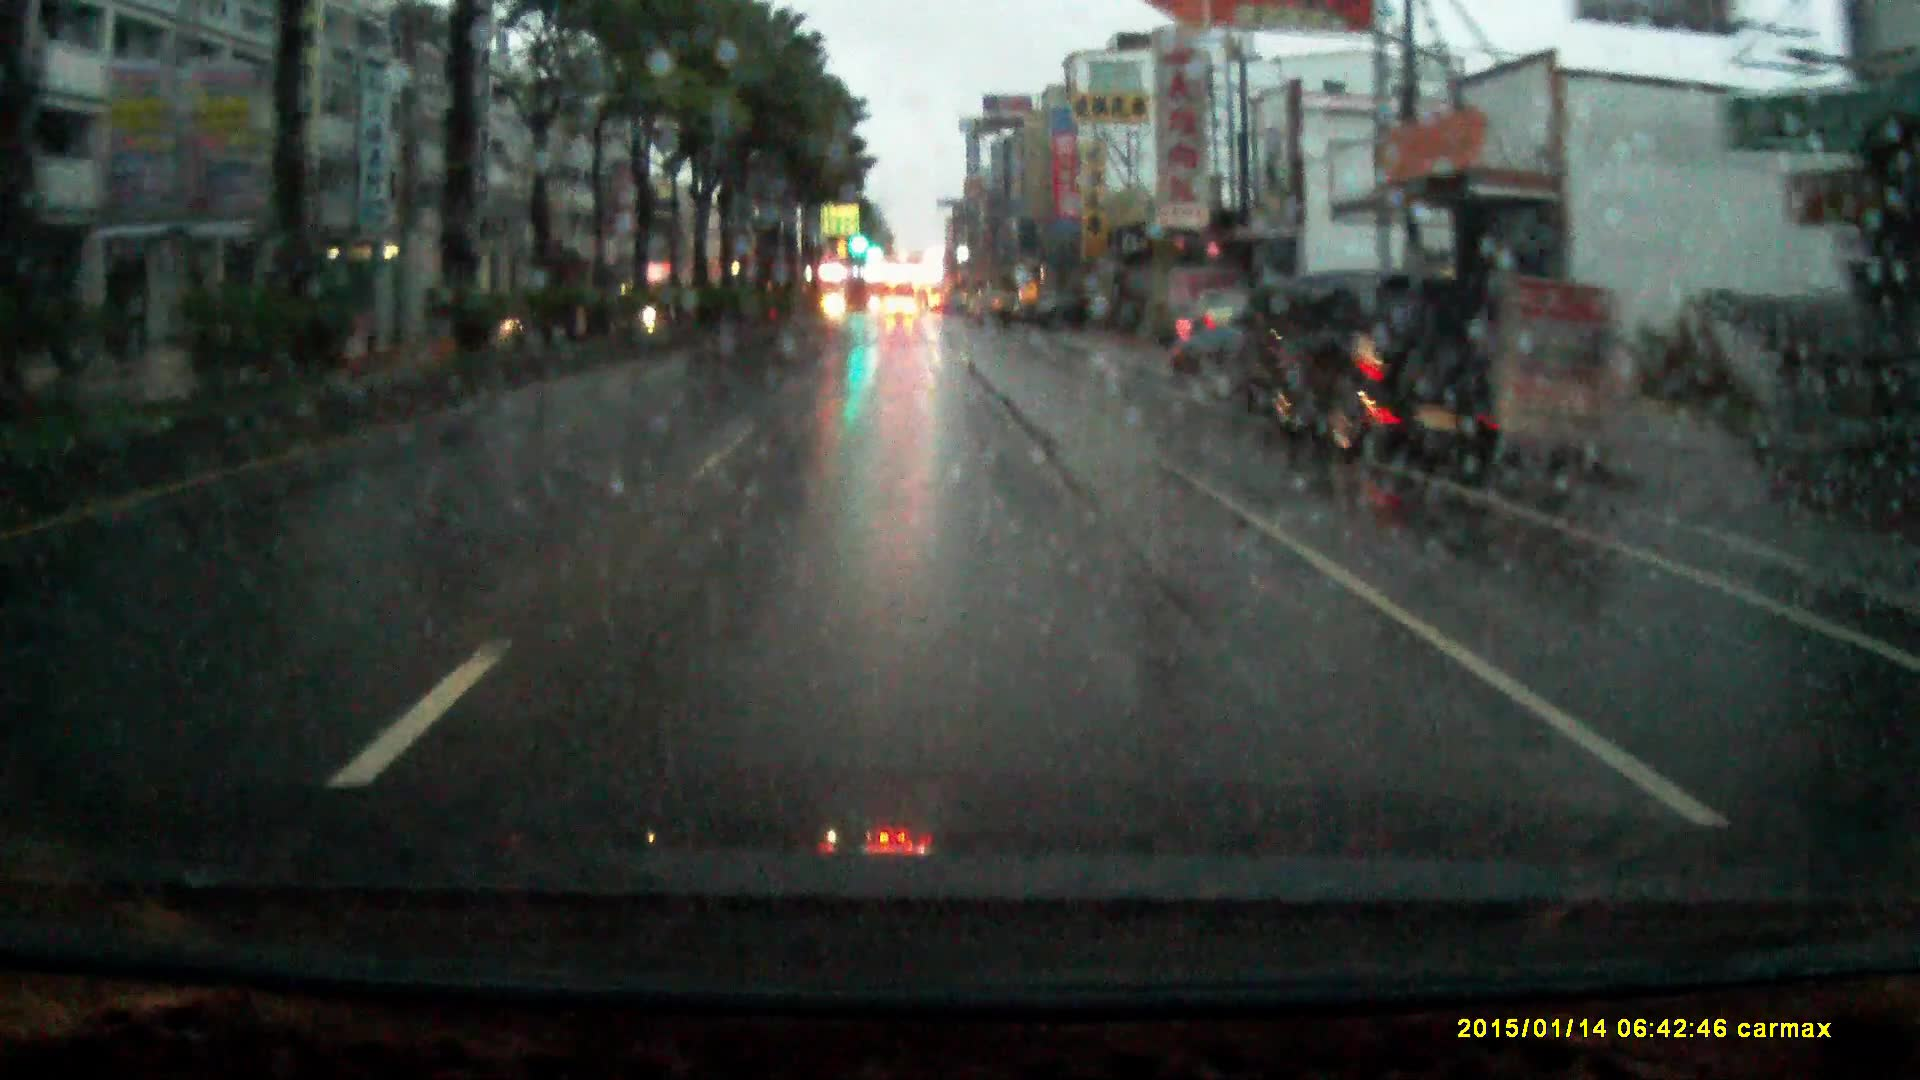vehicle: (1259, 272, 1509, 473), (1215, 266, 1373, 427), (1172, 301, 1250, 378), (975, 287, 1019, 330), (884, 295, 918, 320)
